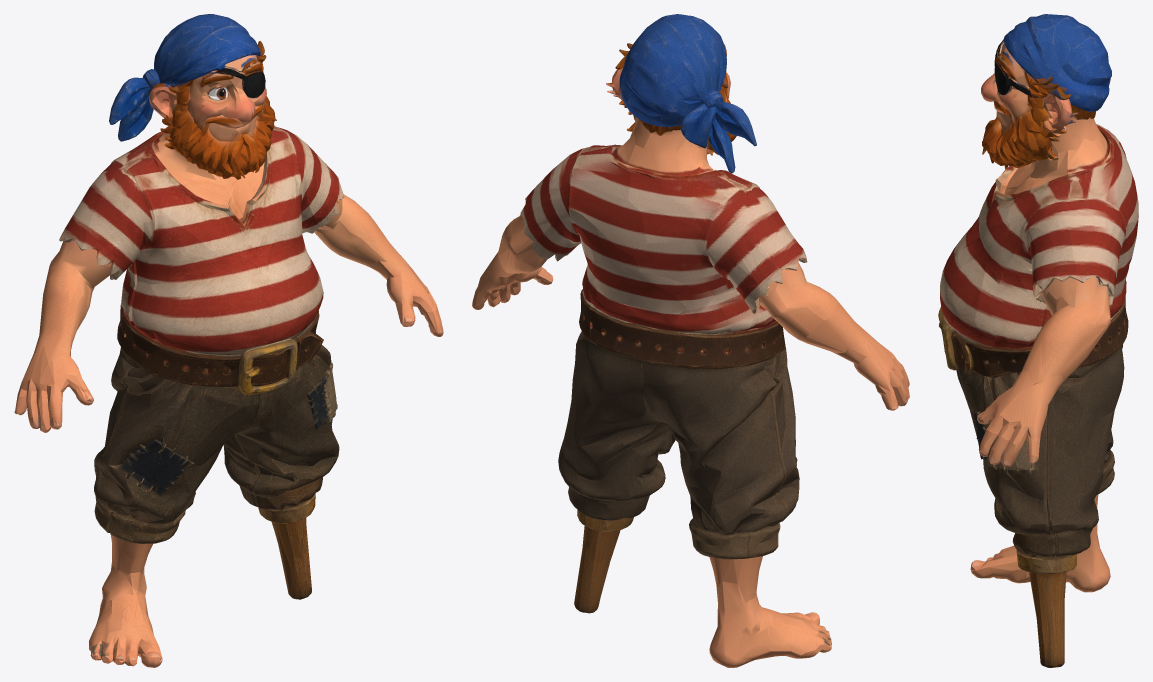
The model's file is pirate.fbx.
The picture shows the model from 3 angles, left to right: view 1: azimuth 30°, elevation 25°; view 2: azimuth 150°, elevation 25°; view 3: azimuth 270°, elevation 25°; orthographic projection. The views are drawn at different scales.
Parts seen in each view (by area): view 1: pirate; view 2: pirate; view 3: pirate.
Boxes of the visible parts, x1,y1,x2,y2 form: pirate: (14, 14, 443, 667); pirate: (472, 14, 909, 667); pirate: (938, 14, 1138, 667).
Size of the model in its own units: 1.2 by 1.65 by 0.496.
1 material, 1 textured.
